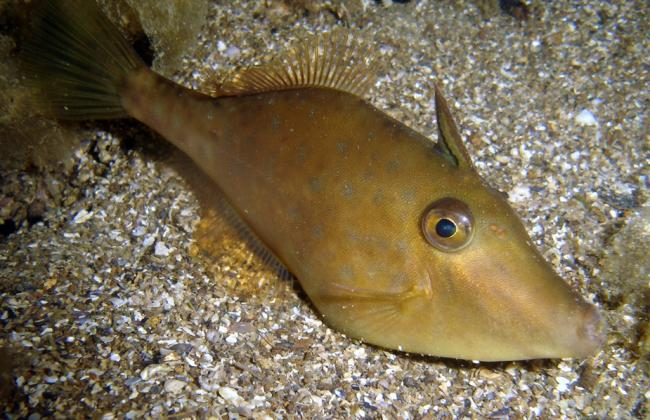fish: (49, 2, 601, 359)
